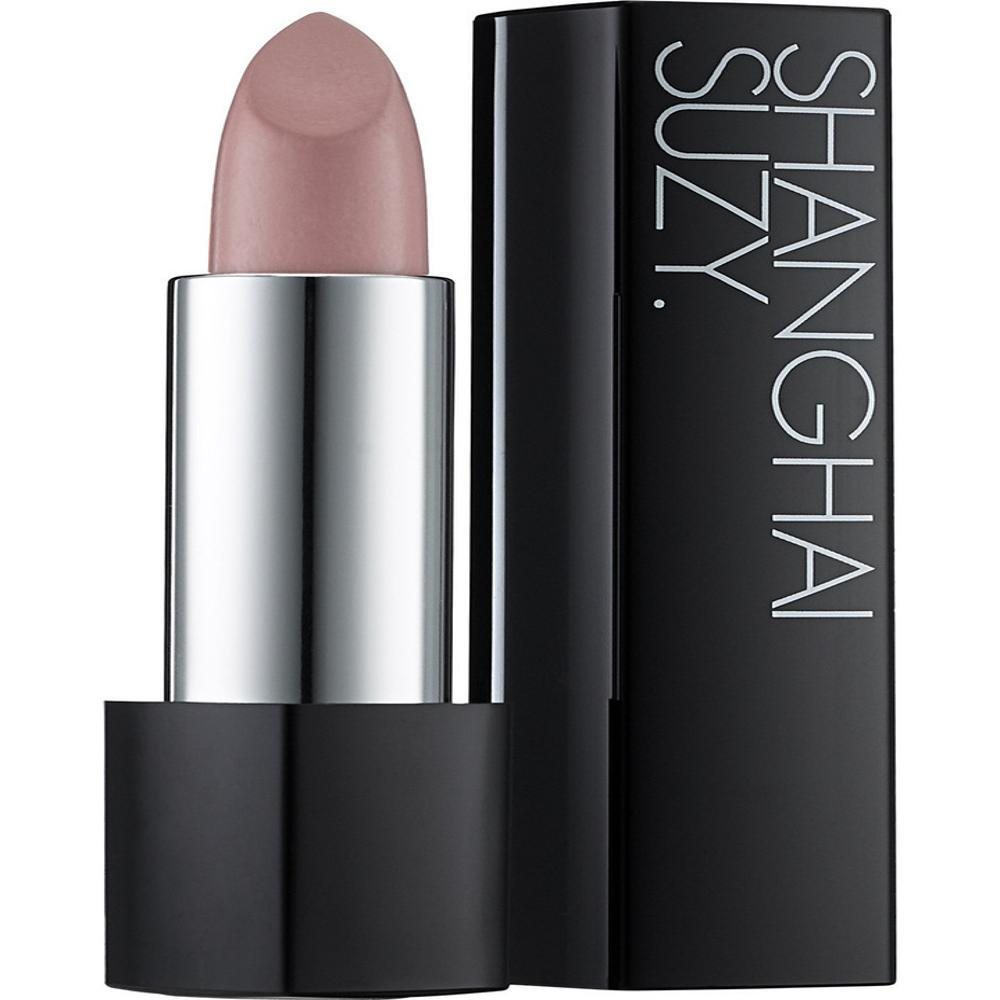lipstick: (88, 4, 534, 953)
